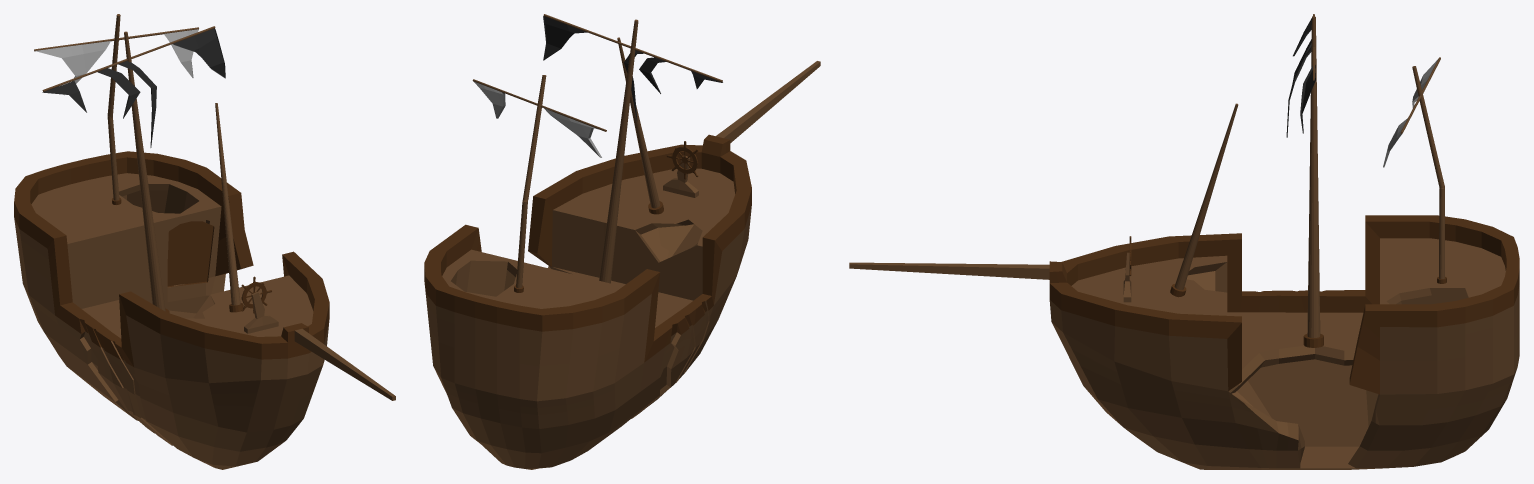
Rendered from WreckedShip.fbx.
3 renders of one model, left to right at view 1: azimuth 30°, elevation 25°; view 2: azimuth 150°, elevation 25°; view 3: azimuth 270°, elevation 25°, orthographic. The views are drawn at different scales.
Parts seen in each view (by area): view 1: Plane, Cylinder, Plane.003, Cylinder.003, Plane.008, Plane.004, Cylinder.002, Plane.009, Plane.002, Cylinder.001, Plane.001, Plane.006 (+2 smaller); view 2: Plane, Cylinder, Cylinder.003, Cylinder.002, Plane.004, Plane.008, Cylinder.001, Plane.009, Circle, Plane.002; view 3: Plane, Cylinder, Cylinder.003, Cylinder.002.
Boxes of the visible parts, x1=… form: Plane: x1=14, y1=151, x2=395, y2=469; Cylinder: x1=42, y1=26, x2=215, y2=312; Plane.003: x1=167, y1=221, x2=214, y2=287; Cylinder.003: x1=215, y1=103, x2=243, y2=312; Plane.008: x1=35, y1=41, x2=110, y2=95; Plane.004: x1=173, y1=28, x2=225, y2=78; Cylinder.002: x1=34, y1=14, x2=198, y2=118; Plane.009: x1=244, y1=292, x2=278, y2=333; Plane.002: x1=164, y1=29, x2=198, y2=77; Cylinder.001: x1=107, y1=116, x2=121, y2=204; Plane.001: x1=97, y1=68, x2=140, y2=118; Plane.006: x1=118, y1=61, x2=156, y2=147; Plane: x1=424, y1=61, x2=820, y2=469; Cylinder: x1=543, y1=14, x2=722, y2=283; Cylinder.003: x1=617, y1=37, x2=663, y2=214; Cylinder.002: x1=472, y1=75, x2=606, y2=201; Plane.004: x1=543, y1=16, x2=587, y2=60; Plane.008: x1=543, y1=107, x2=601, y2=157; Cylinder.001: x1=514, y1=200, x2=527, y2=292; Plane.009: x1=663, y1=155, x2=698, y2=197; Circle: x1=666, y1=141, x2=698, y2=179; Plane.002: x1=473, y1=81, x2=505, y2=118; Plane: x1=849, y1=215, x2=1519, y2=469; Cylinder: x1=1303, y1=14, x2=1323, y2=347; Cylinder.003: x1=1170, y1=103, x2=1238, y2=297; Cylinder.002: x1=1400, y1=57, x2=1444, y2=188.
Bounding box in the file's own units: 544 × 931 × 1324.
